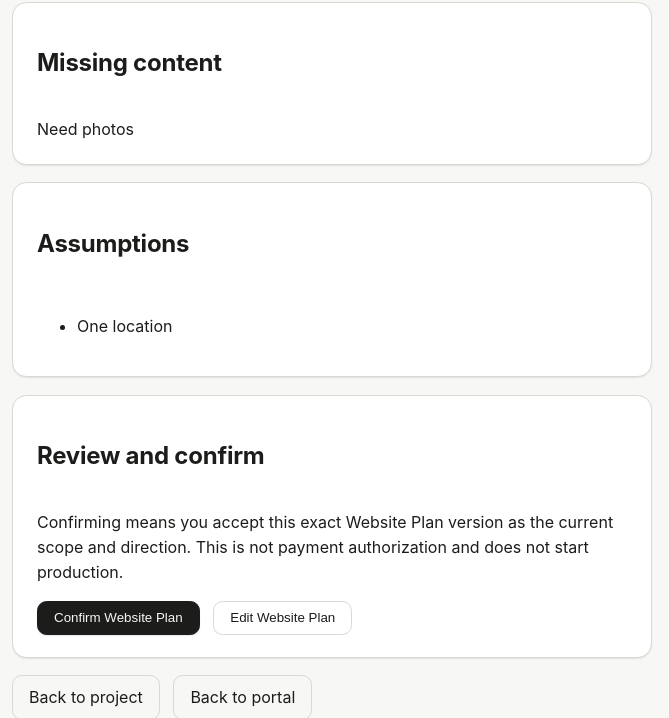
Test: WebsitePlanPanel › confirms READY plans with exact version identity
(page scrolled)
Click the button "Confirm Website Plan" at (118,618), box [37,601,200,635]
(page scrolled)
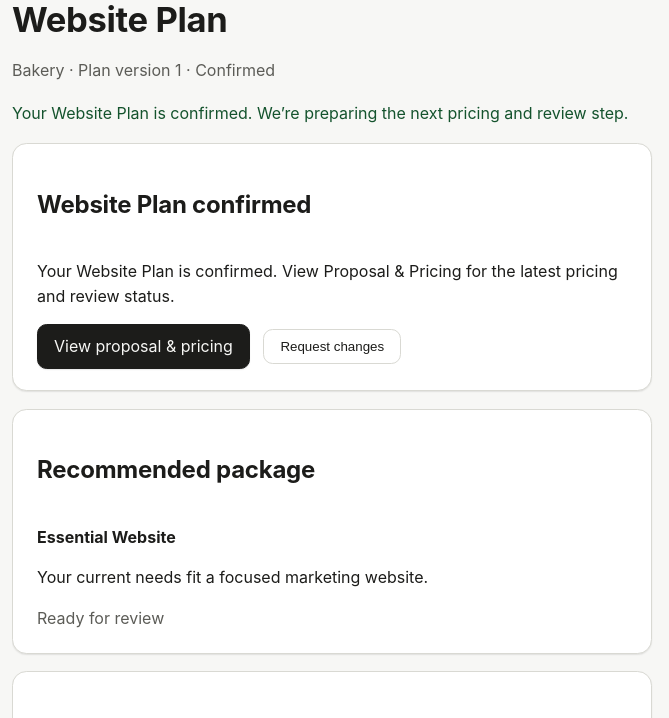
Now the text "preparing the next pricing and review step" is shown, box [12,103,628,123]
